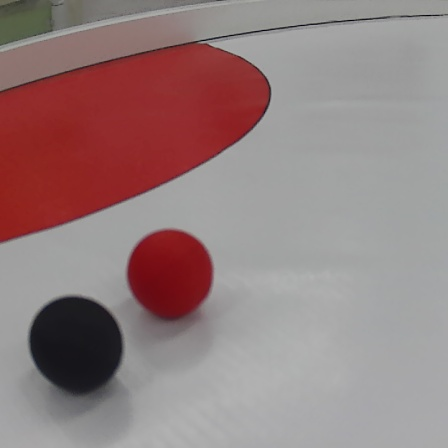black: (29, 296, 124, 392)
red: (128, 224, 215, 320)
red_base: (0, 36, 277, 247)
